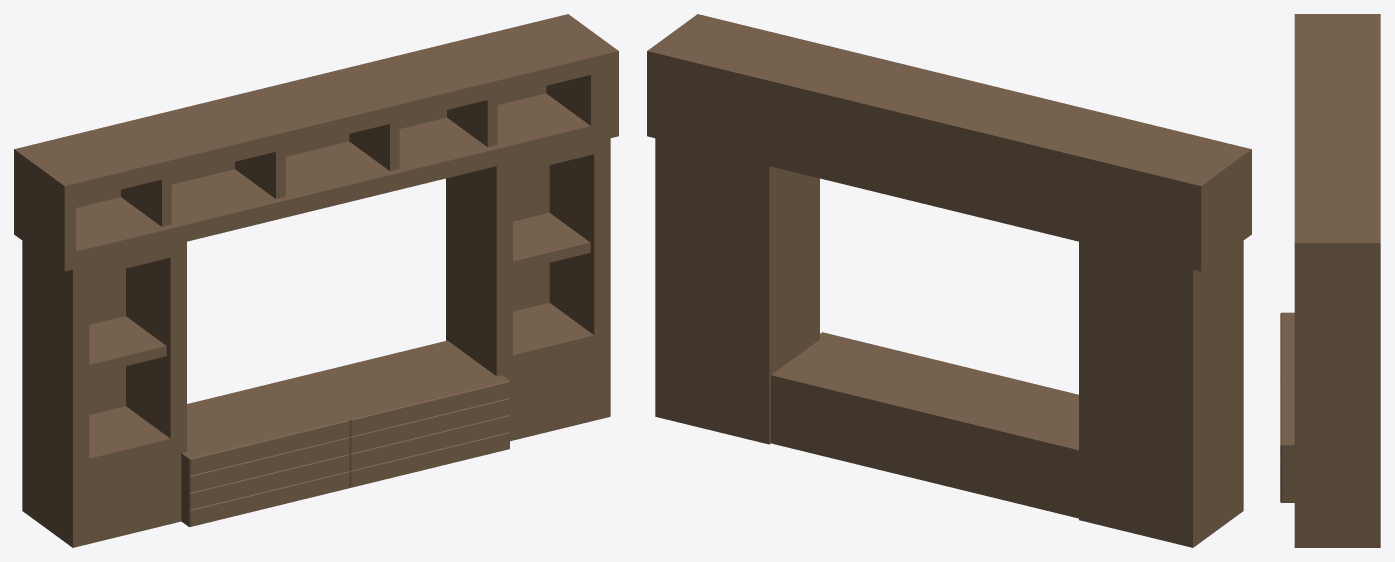
The model's file is Shelves_2A.fbx.
3 renders of one model, left to right at view 1: azimuth 30°, elevation 25°; view 2: azimuth 150°, elevation 25°; view 3: azimuth 270°, elevation 25°, orthographic. The views are drawn at different scales.
Parts seen in each view (by area): view 1: polySurface2323; view 2: polySurface2323; view 3: polySurface2323.
Boxes of the visible parts, box(x1,y1,x2,y2) form: polySurface2323: box(14, 14, 618, 547); polySurface2323: box(647, 14, 1251, 547); polySurface2323: box(1280, 14, 1380, 547).
Size of the model in its own units: 3.4 by 2.13 by 0.6276.
Materials: 1 (1 with a texture image).
